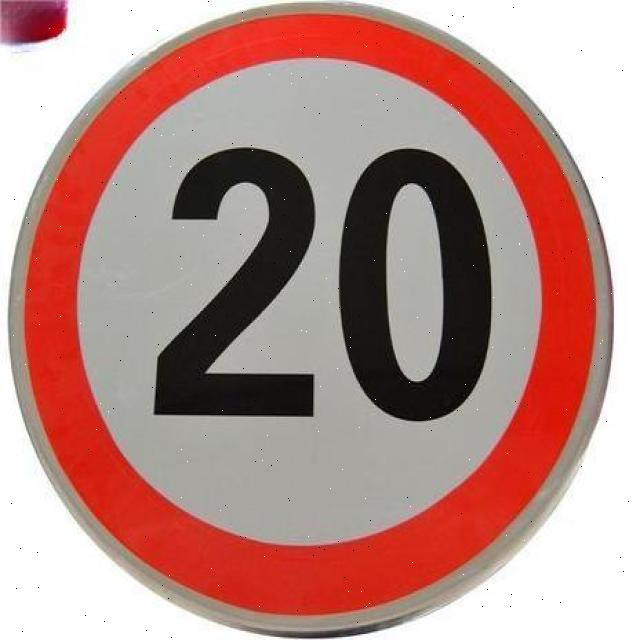speed limit 20: (3, 0, 614, 640)
